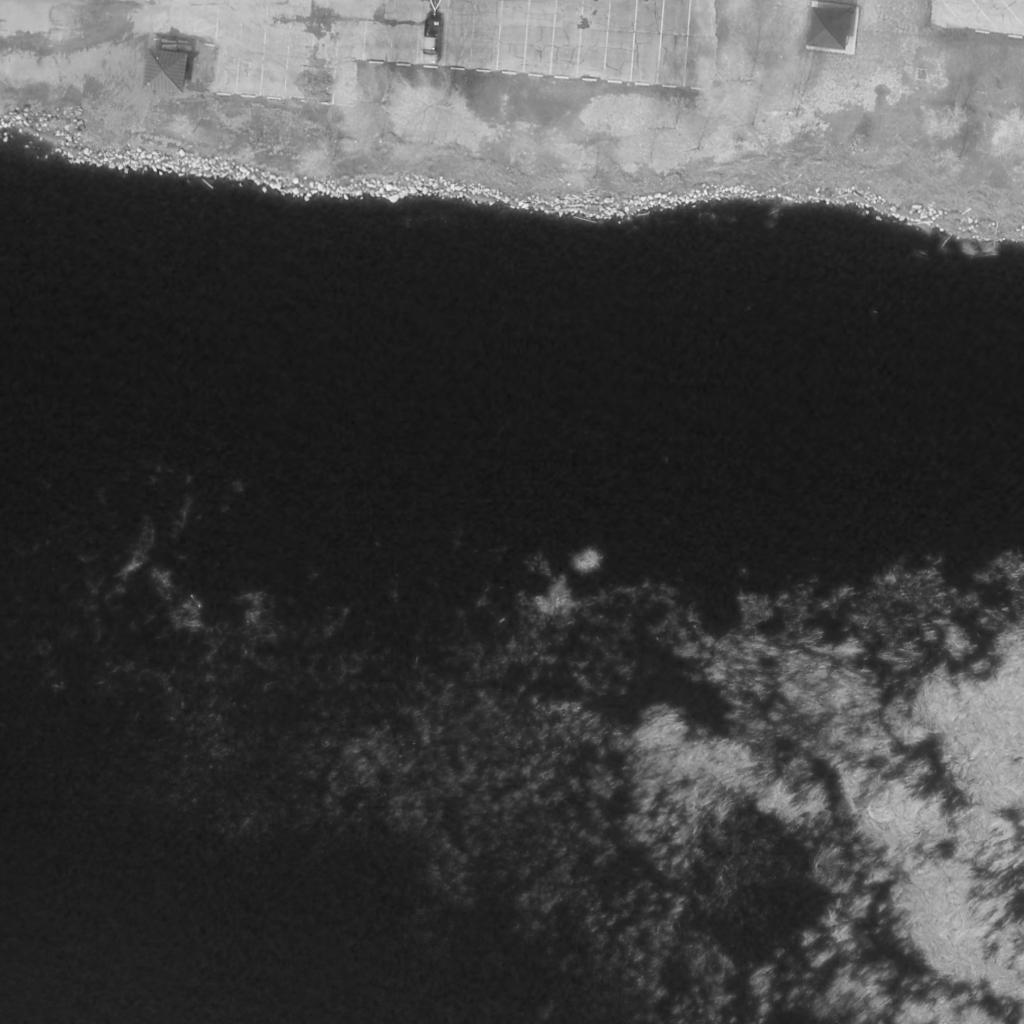vehicle: (424, 15, 444, 65)
